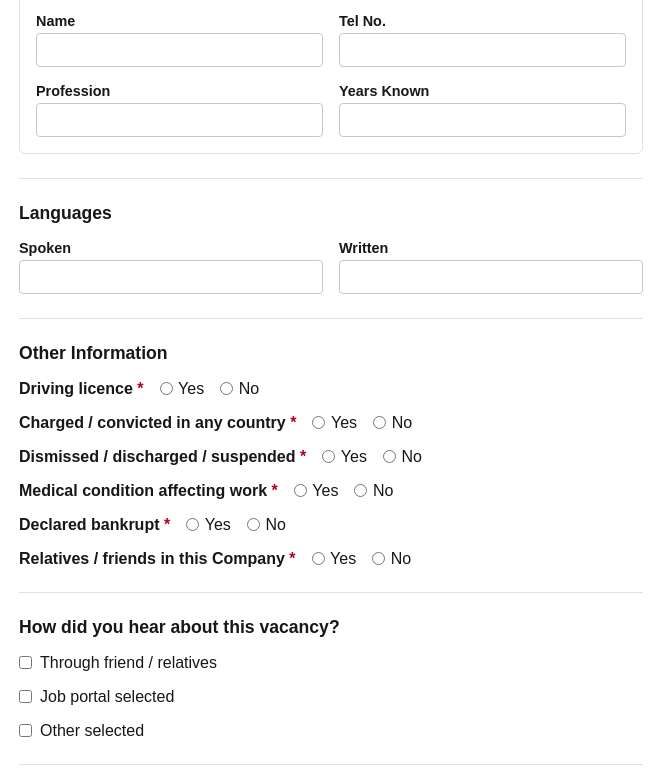
Test case: CandidateForm › reveals a single detail field only after answering Yes, and clears it on No
(page scrolled)
Expected: the field labelled "Driving licence - details" is not shown
Click the radio button with aria-label ": Yes" at x=166, y=389, box [160,382,172,396]
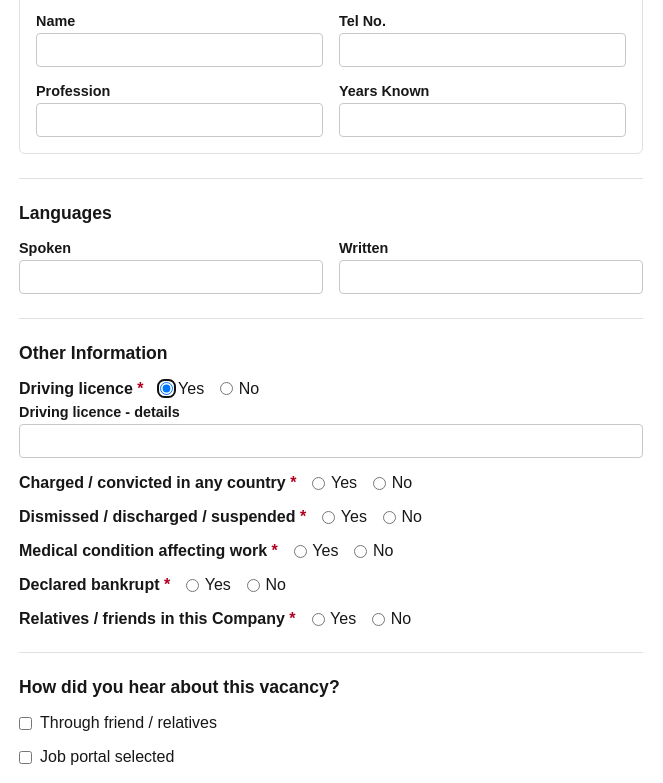
Type "Class 3" into the field labelled "Driving licence - details" at x=331, y=441, box [19,424,643,458]
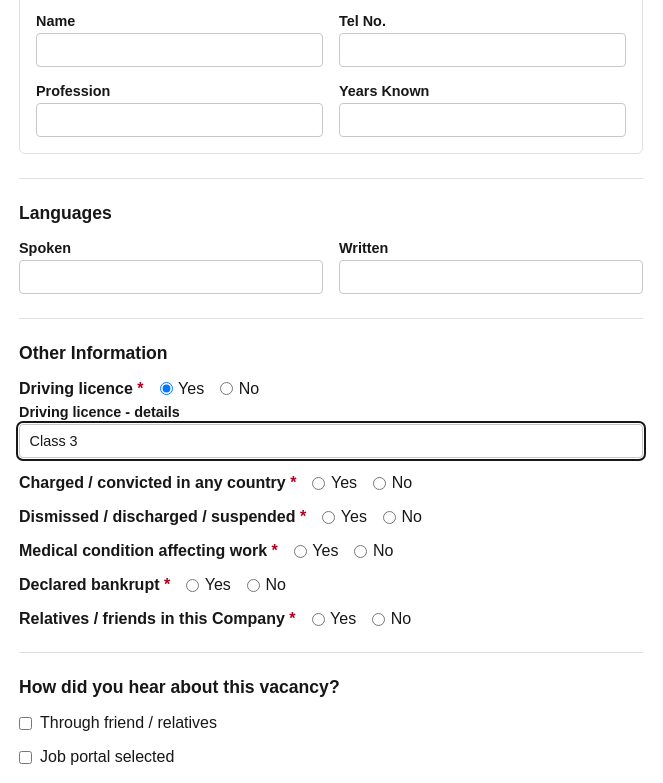
Click the radio button with aria-label ": No" at x=227, y=389, box [220,382,233,396]
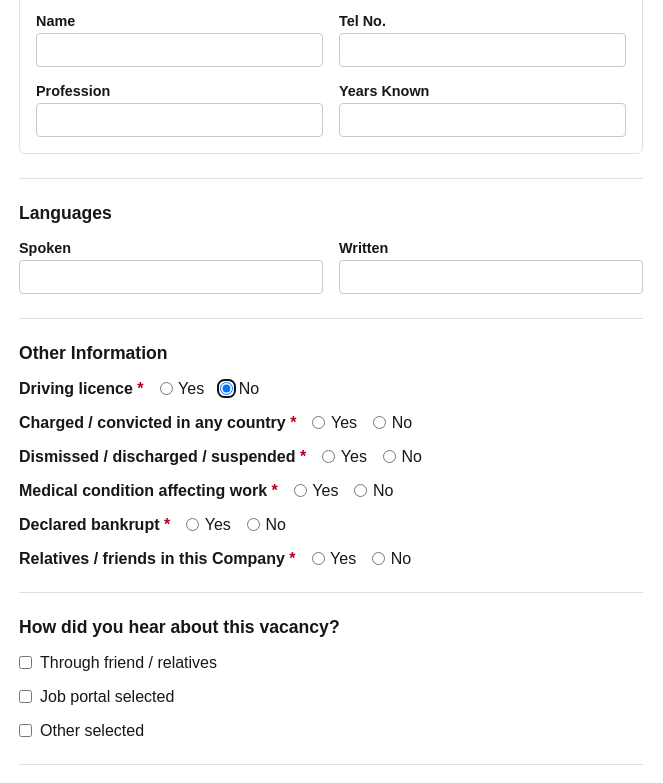
Expected: the text labelled "Driving licence - details" is gone
